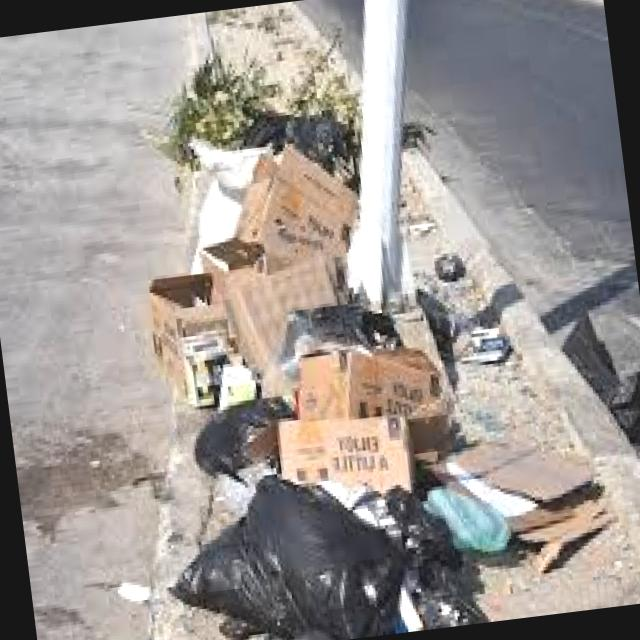garbage: (119, 132, 510, 640)
